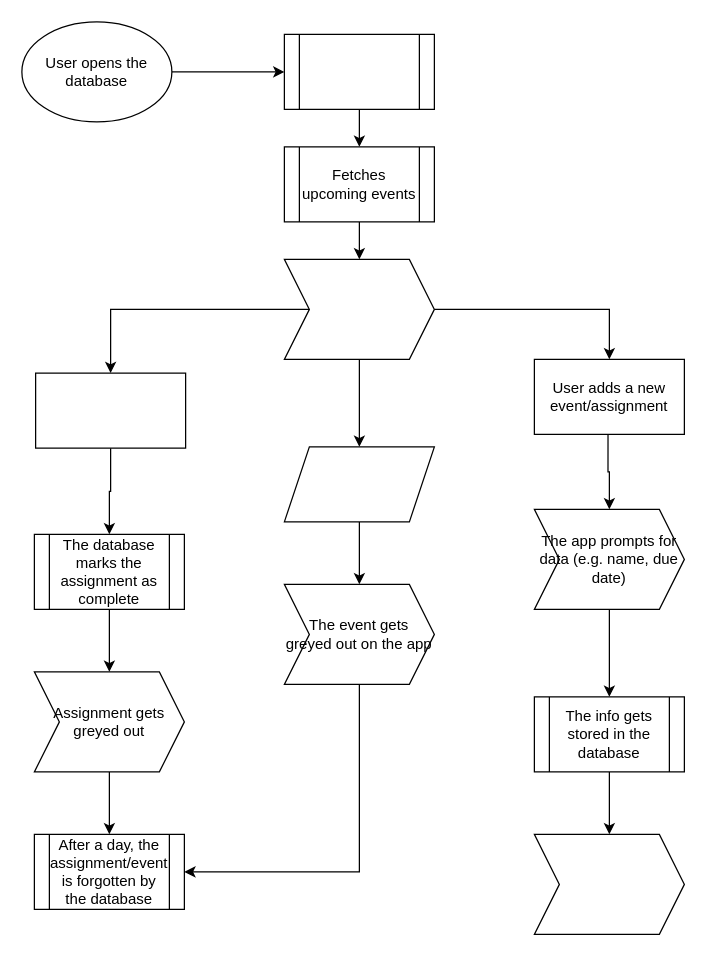
Some shapes in this 706 by 956 pixel diagram are drawn without their labels. Here are the shapes that lost their labels. From the top down, the centre of each, then its label:
At point 358,71: "The app accesses the database".
At point 358,308: "The app displays all upcoming assignments".
At point 110,410: "User marks an assignment as complete".
At point 358,484: "The event time passes".
At point 608,883: "The new thing is dispayed".
